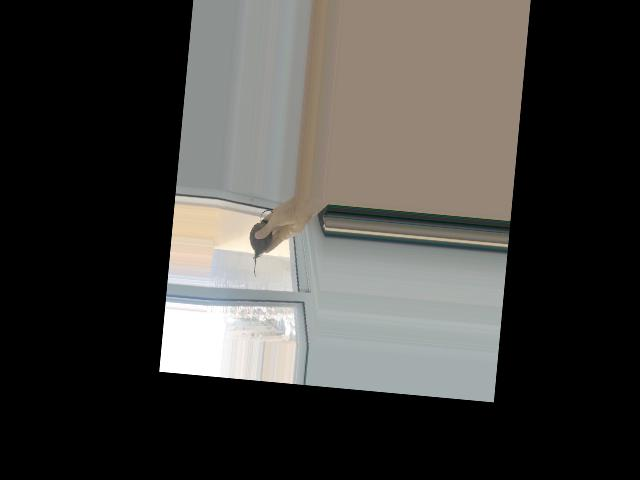beet: (246, 208, 281, 279)
